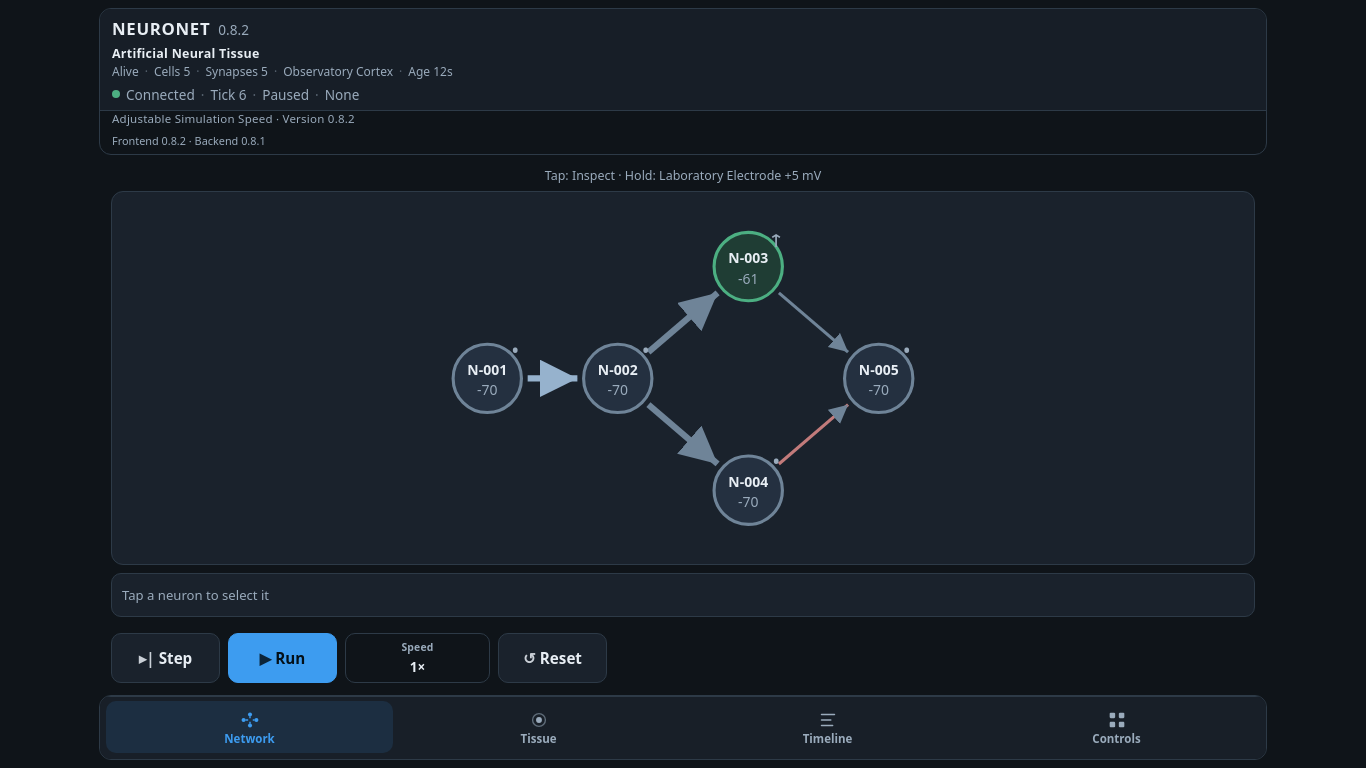
Test: Mission Control page › keeps Network and Tissue tabs working with synapses
expect the text "Connected" is shown: met, box [126,85,195,104]
Click the button with aria-label "Tissue view": (538, 727) [395,701,682,753]
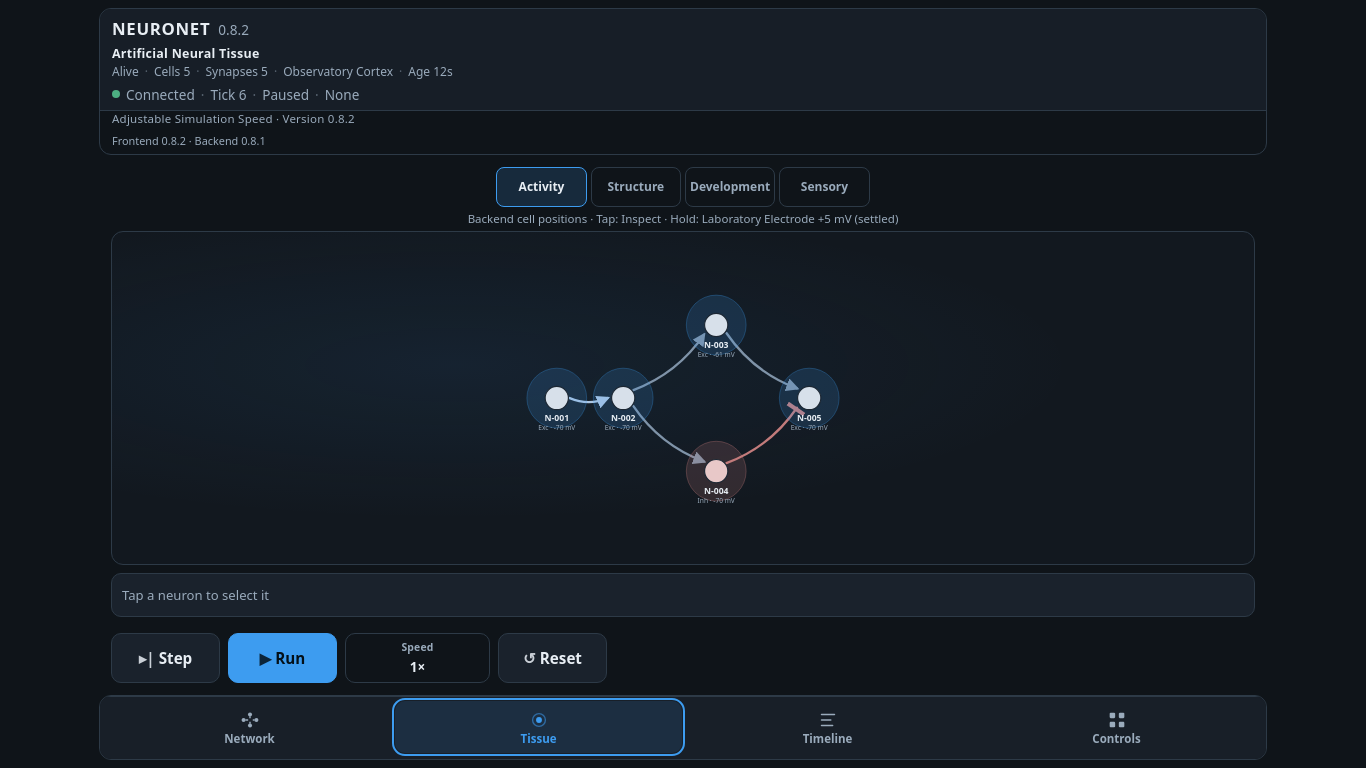
expect the element with test id "tissue-synapse-SYNAPSE-005" is shown: met, box [726,408,797,463]
expect the element with test id "tissue-view" is shown: met, box [111,167,1255,565]
